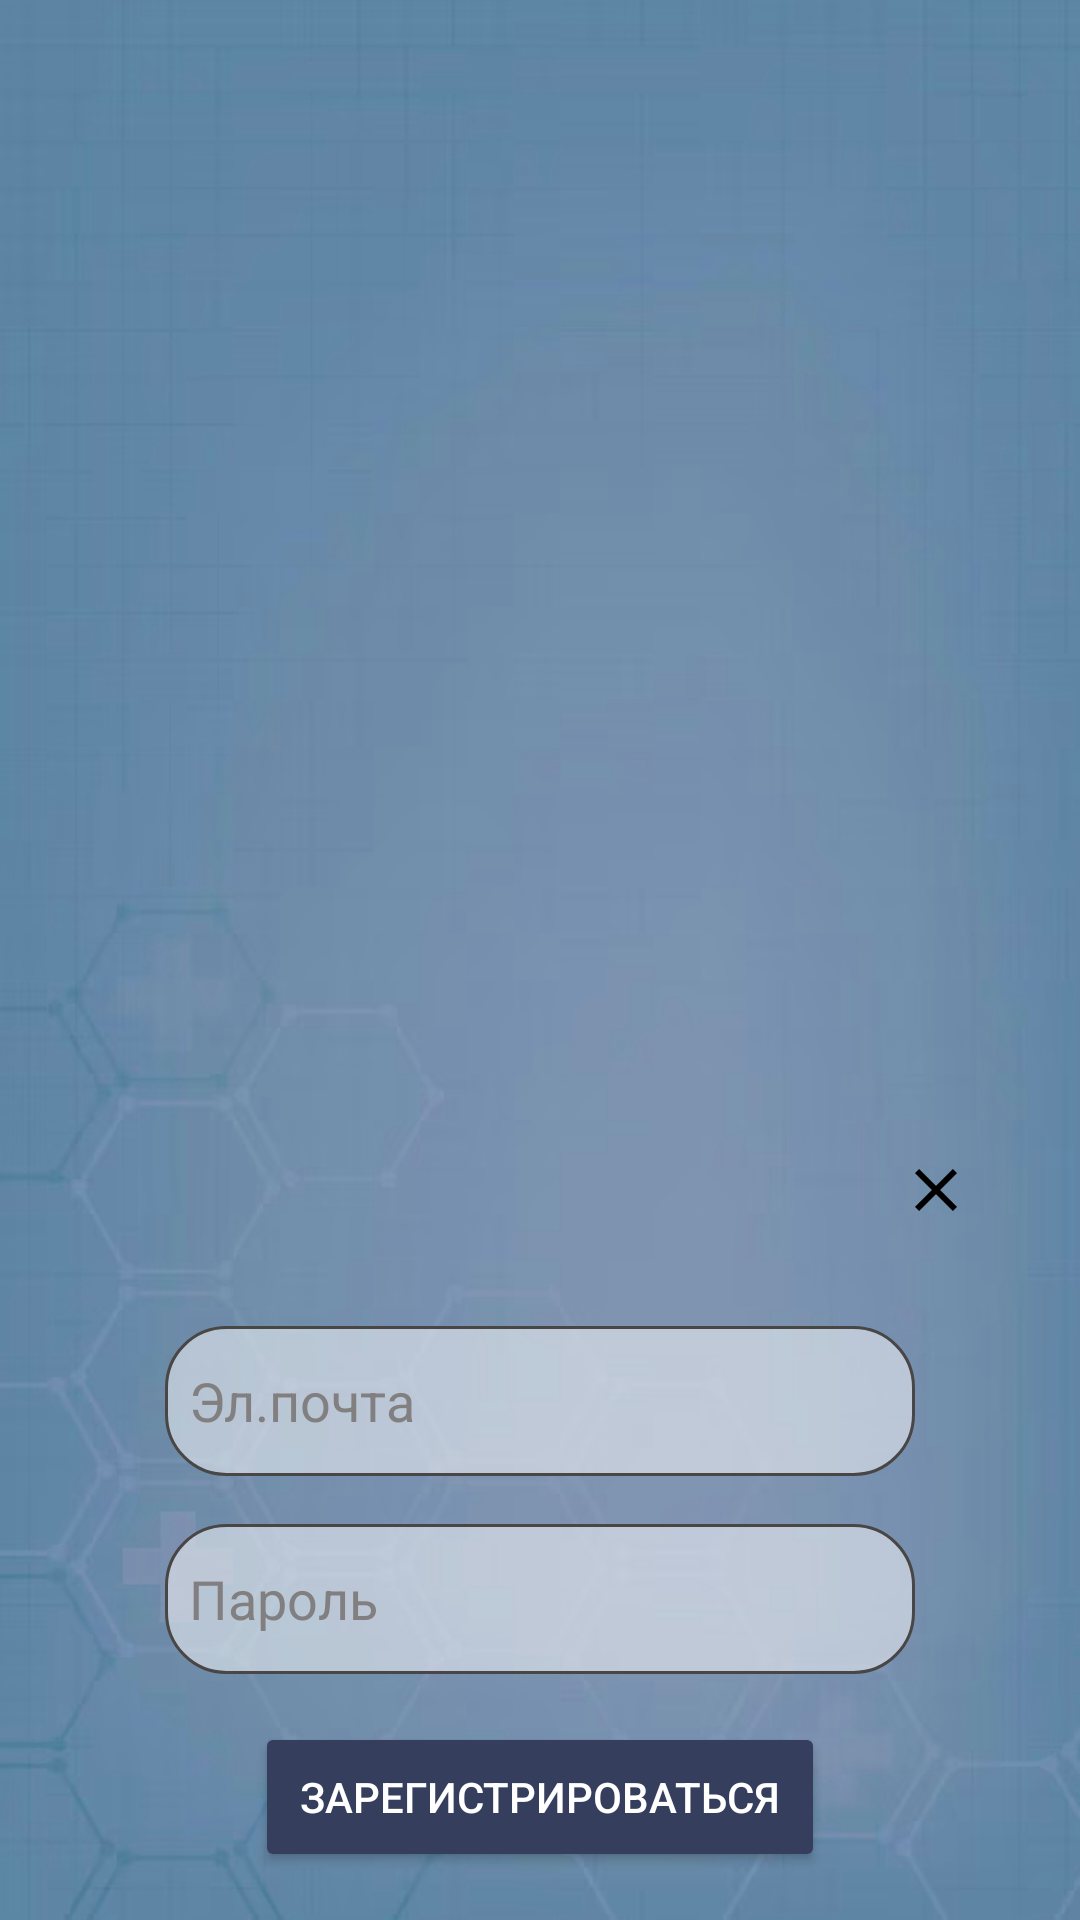

Where icons sit on this 1080×1920 app screen, as (x1, y1, x2, y2):
close: (915, 1169, 957, 1211)
